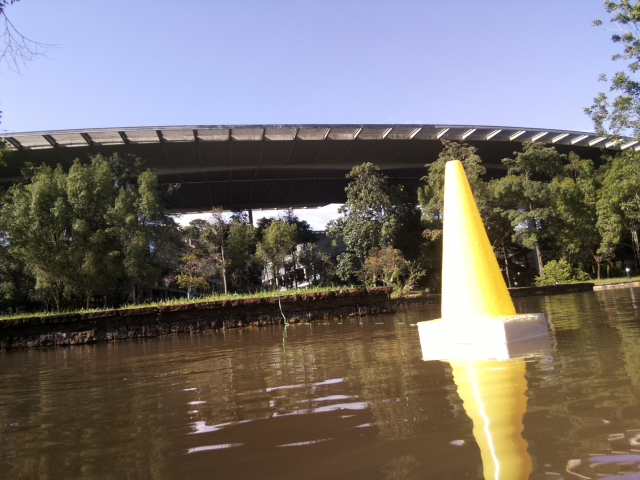checkpoint: (417, 160, 551, 347)
